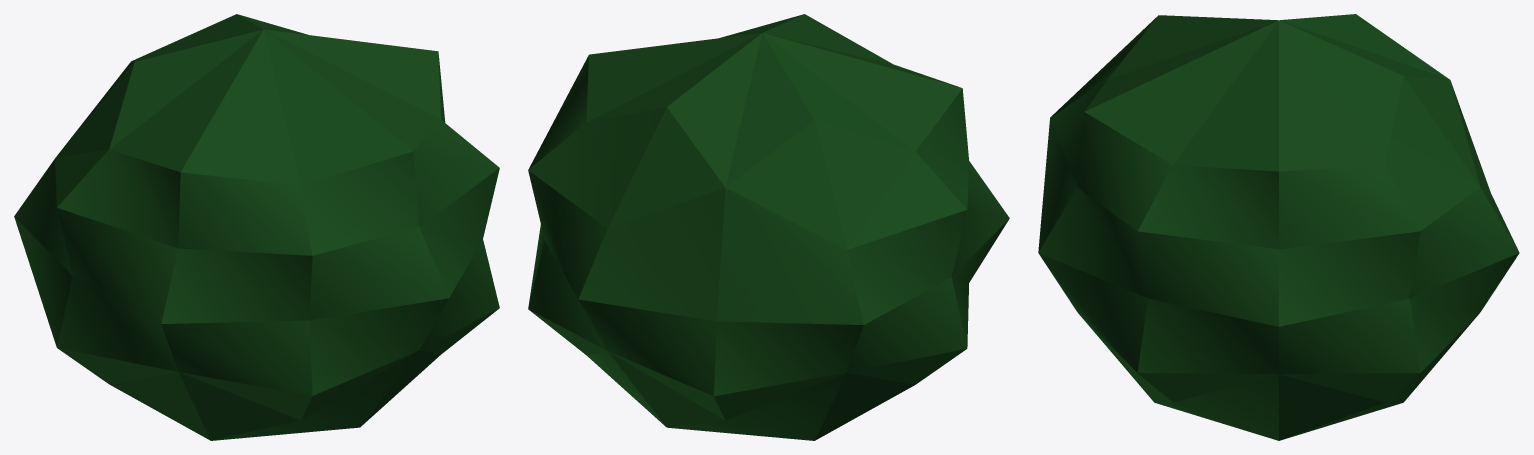
File: GreenBush_v3.fbx
3 views of the same model, side by side, from view 1: azimuth 30°, elevation 25°; view 2: azimuth 150°, elevation 25°; view 3: azimuth 270°, elevation 25° (orthographic).
Visible parts, largest first — view 1: pSphere4; view 2: pSphere4; view 3: pSphere4.
Part boxes in pixels (box(x1,y1,x2,y2)): pSphere4: box(14, 14, 499, 440); pSphere4: box(528, 14, 1009, 440); pSphere4: box(1038, 14, 1519, 440).
Bounding box in the file's own units: 0.0553 × 0.0499 × 0.0539.
